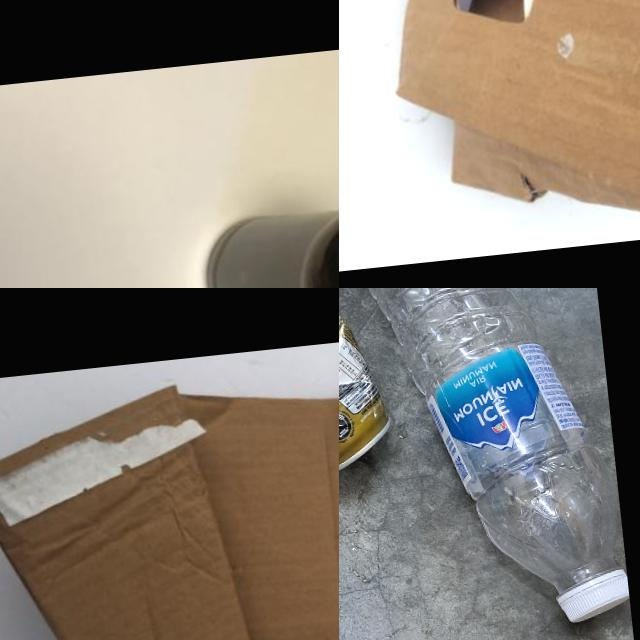garrafa plástica: (357, 288, 628, 615)
lata: (339, 288, 394, 496)
papelão: (0, 343, 339, 640), (363, 0, 640, 263)
tampa plástica: (552, 562, 632, 630)
